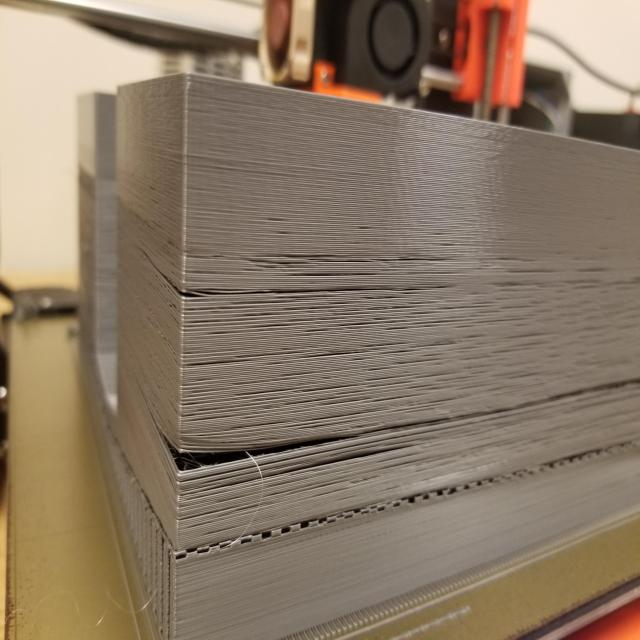Warping: (164, 439, 256, 474), (161, 277, 226, 307)
